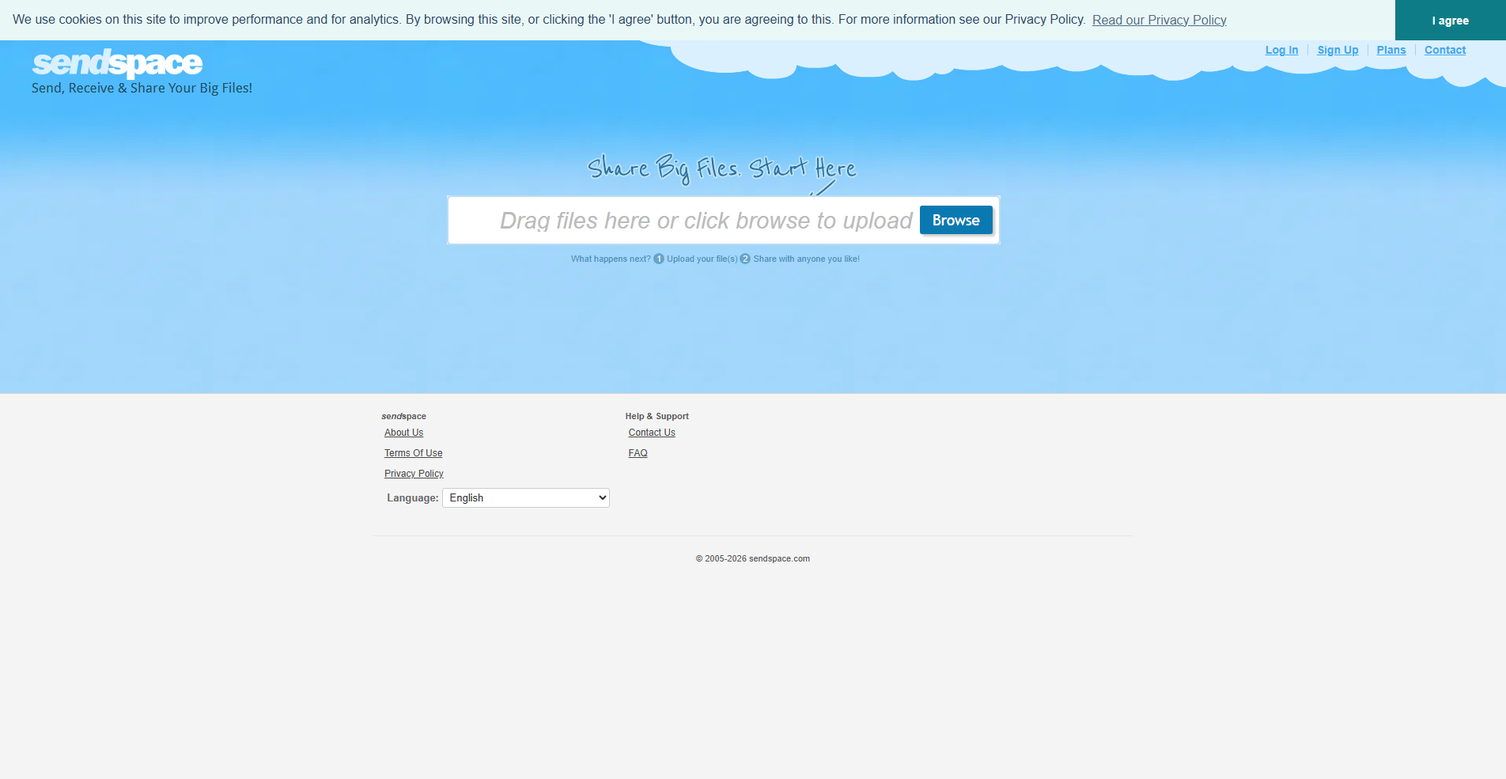button: (439, 204, 993, 238), (1395, 0, 1506, 40), (1090, 8, 1229, 32), (920, 206, 992, 234)
checkbox: (1256, 40, 1257, 40)
dropdown: (442, 488, 610, 508)
input: (454, 204, 1007, 235)
label: (381, 492, 439, 504), (459, 220, 460, 220)
link: (32, 48, 308, 96), (381, 443, 446, 464), (381, 464, 447, 484), (625, 422, 679, 443), (381, 422, 427, 443), (625, 443, 651, 464), (1424, 44, 1466, 56), (1317, 44, 1358, 56), (1265, 44, 1298, 56), (1377, 44, 1406, 56)
